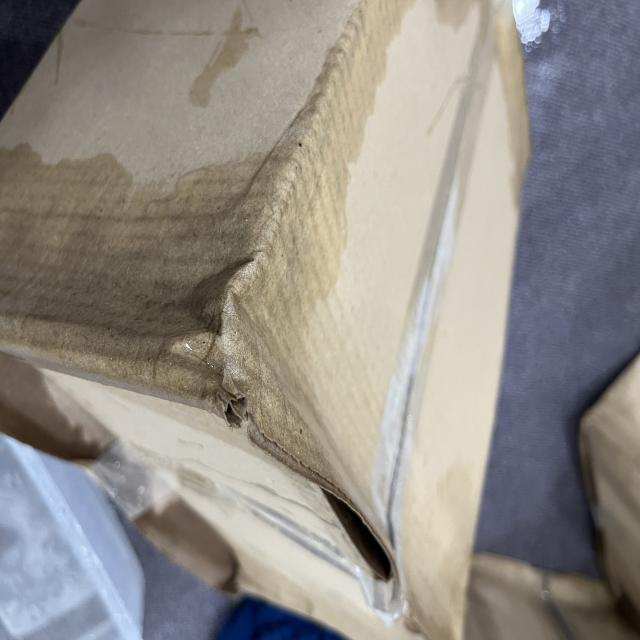hole: (316, 464, 416, 612)
wet: (0, 142, 370, 416)
